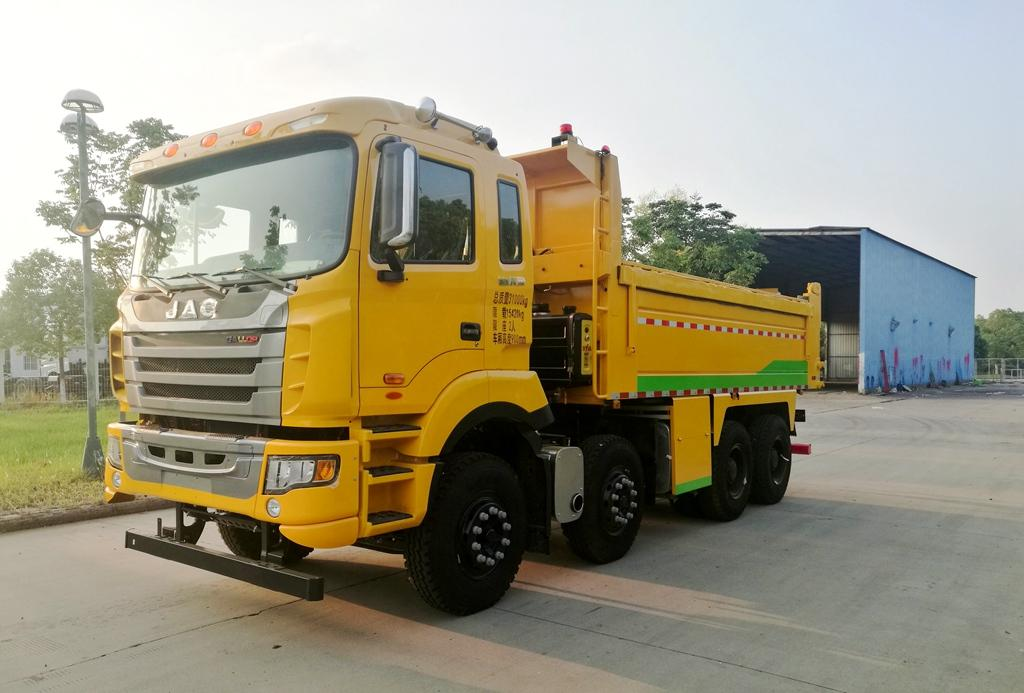truck: (100, 74, 839, 620)
